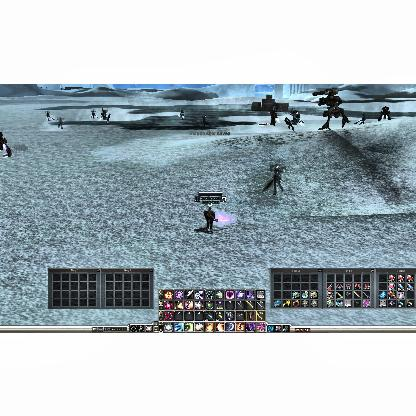caliana: (262, 162, 286, 196), (354, 112, 368, 124), (201, 114, 211, 126), (45, 110, 55, 121), (57, 116, 65, 128), (178, 108, 184, 118)
